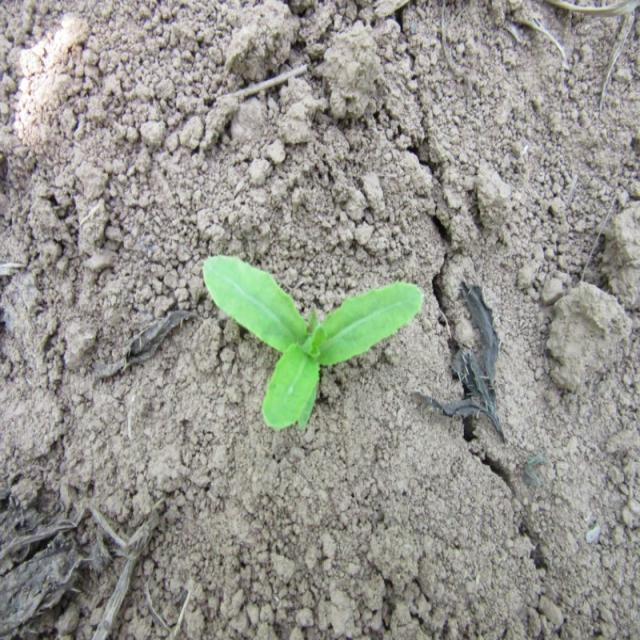field_thistle: (192, 231, 433, 429)
